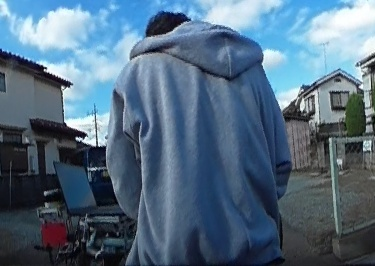person: (98, 10, 288, 263)
